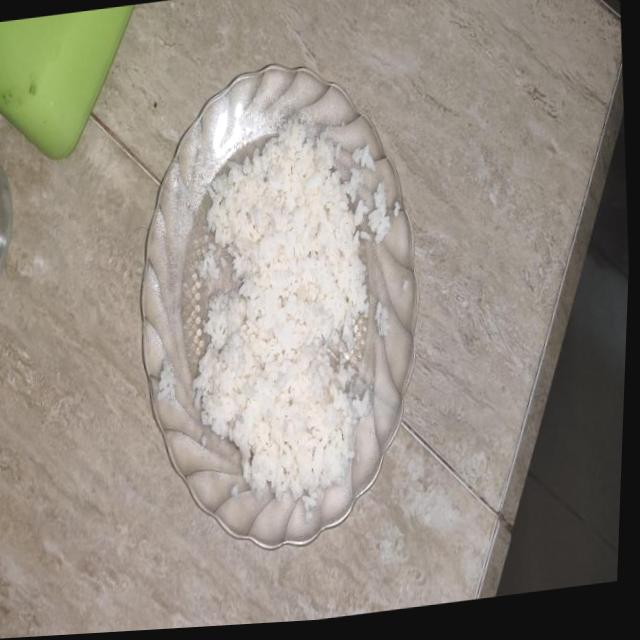nasi_putih: (192, 120, 370, 508)
